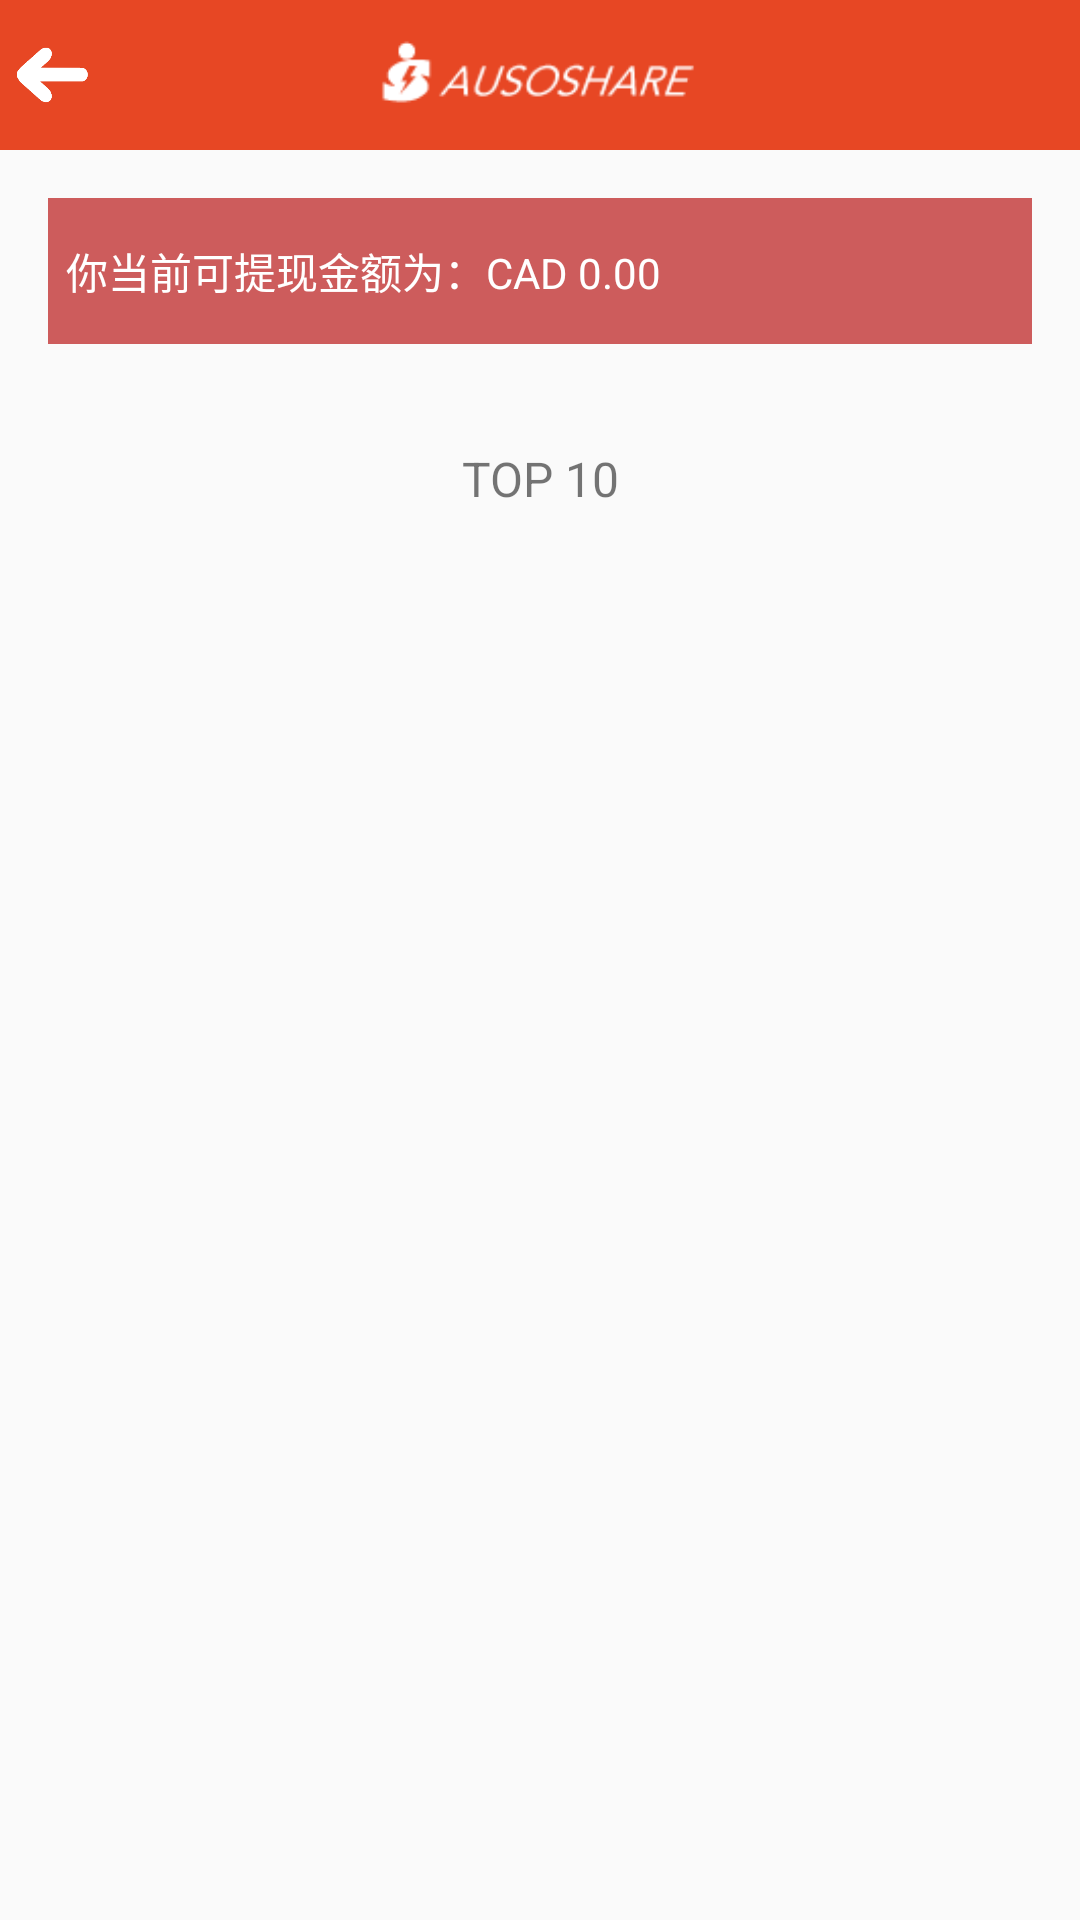

Named icons in this screenshot (1080×1920) and their centers, (x=x, y=y):
left arrow: (x=52, y=75)
